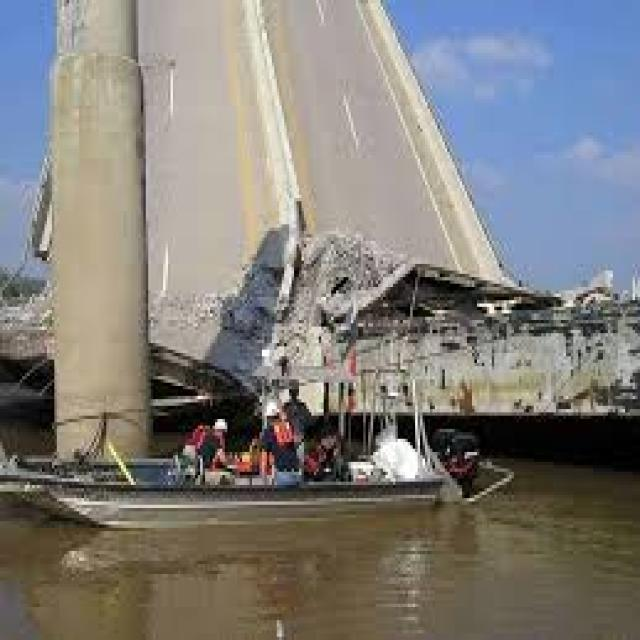bridge collapse: (22, 42, 596, 522)
